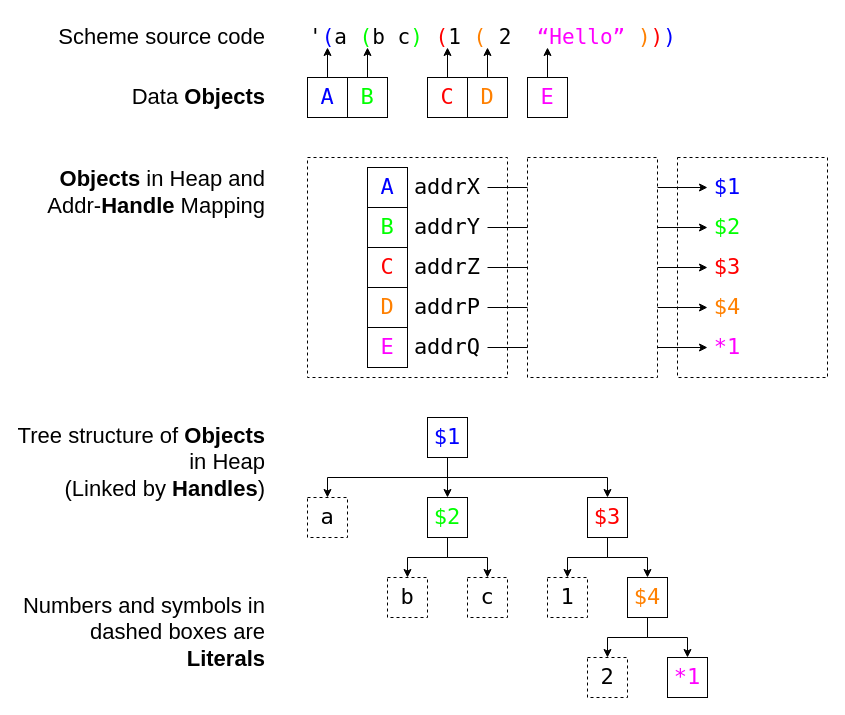
Image size: 845x715. Some labels were removed from this diagram. The shapes that lost their labels are listed below. From the top down, each one's box as (x1, y1, x2, y2) in pixels, then its label:
(306, 156, 508, 378): Heap
(526, 156, 658, 378): Addr-Handle Mapping
(676, 156, 828, 378): Handles
